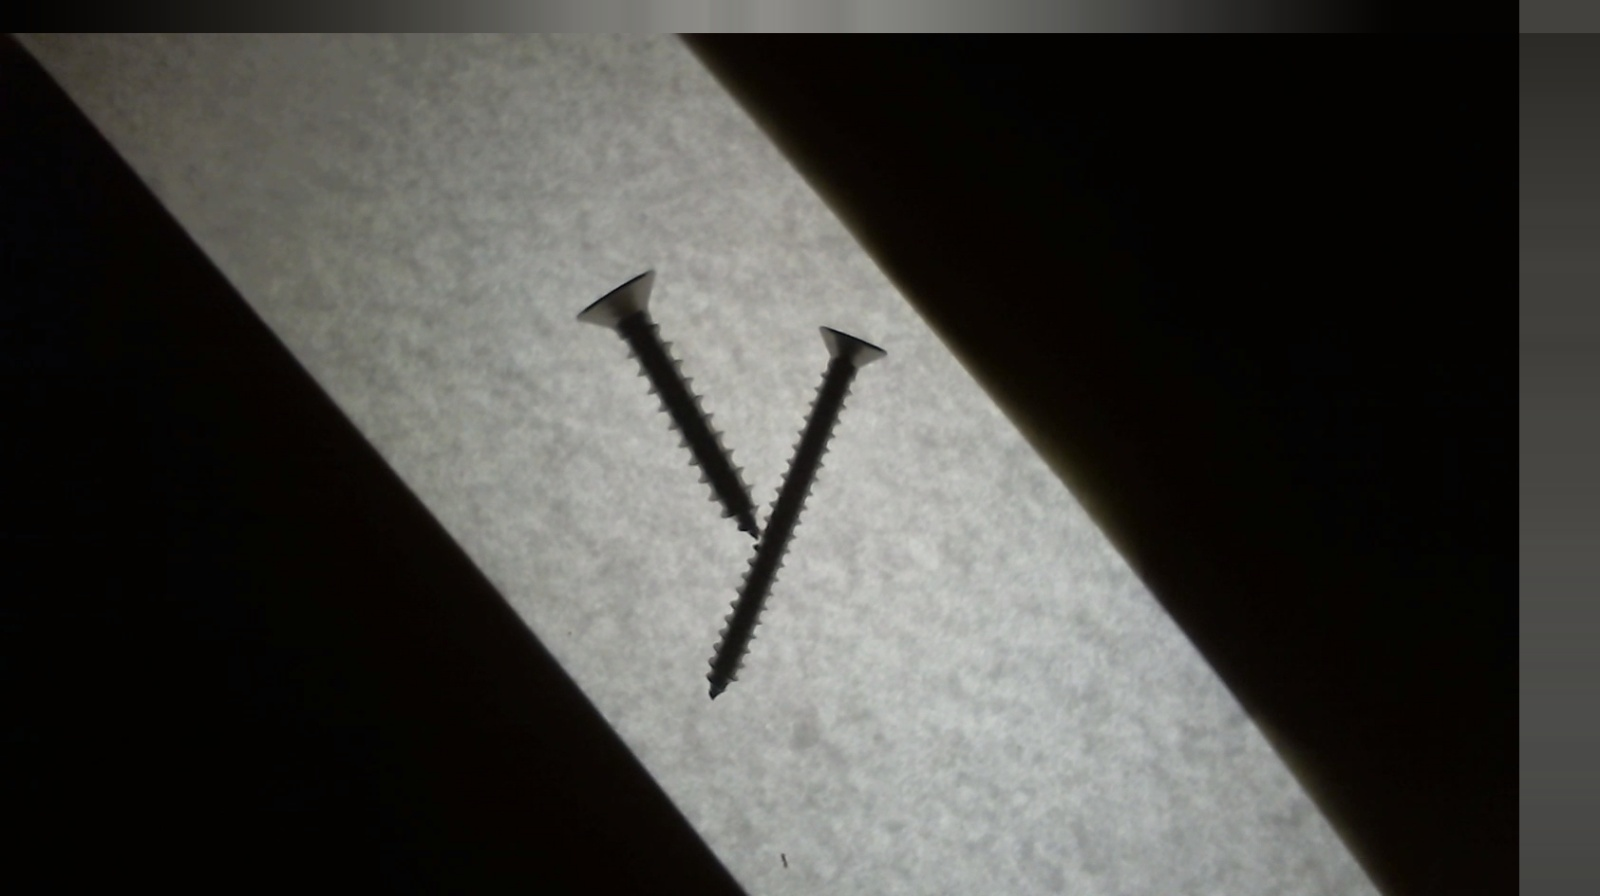S001: (569, 268, 765, 542)
S002: (701, 318, 888, 701)
